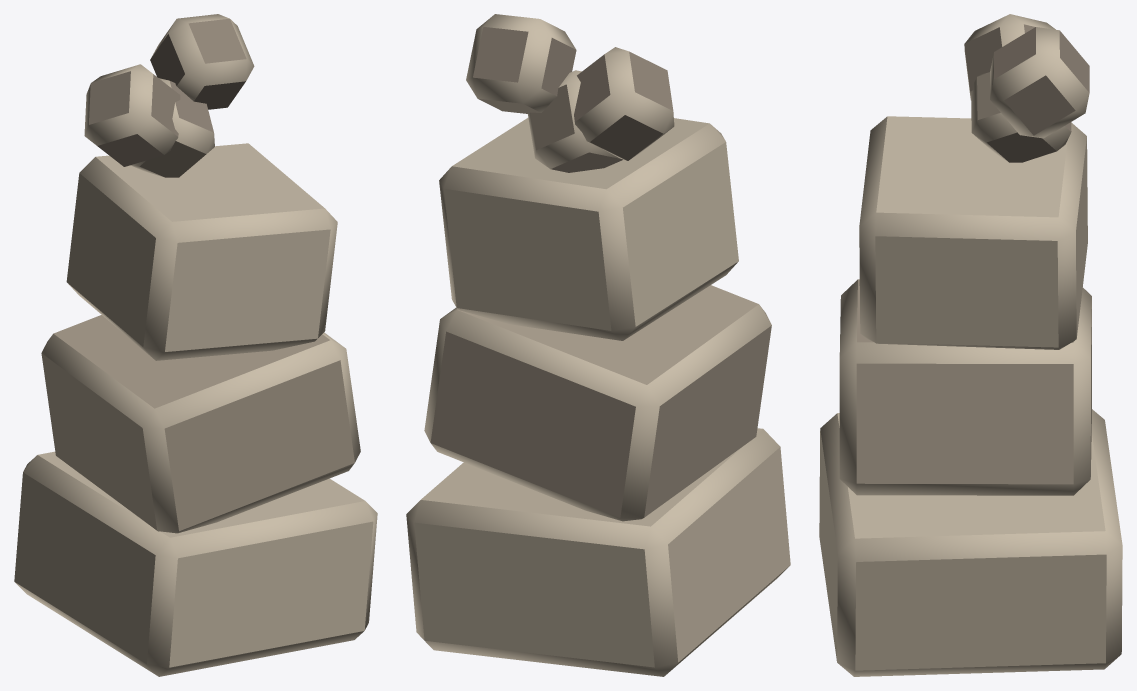
Rendered from tide_pillar_top.glb.
3 views of the same model, side by side, from view 1: azimuth 30°, elevation 25°; view 2: azimuth 150°, elevation 25°; view 3: azimuth 270°, elevation 25° (orthographic). The views are drawn at different scales.
Parts seen in each view (by area): view 1: tide_pillar_top; view 2: tide_pillar_top; view 3: tide_pillar_top.
Boxes of the visible parts, x1=… form: tide_pillar_top: x1=14, y1=14, x2=377, y2=676; tide_pillar_top: x1=406, y1=14, x2=790, y2=676; tide_pillar_top: x1=819, y1=14, x2=1122, y2=676.
Size of the model in its own units: 1.09 by 2.35 by 1.06.
